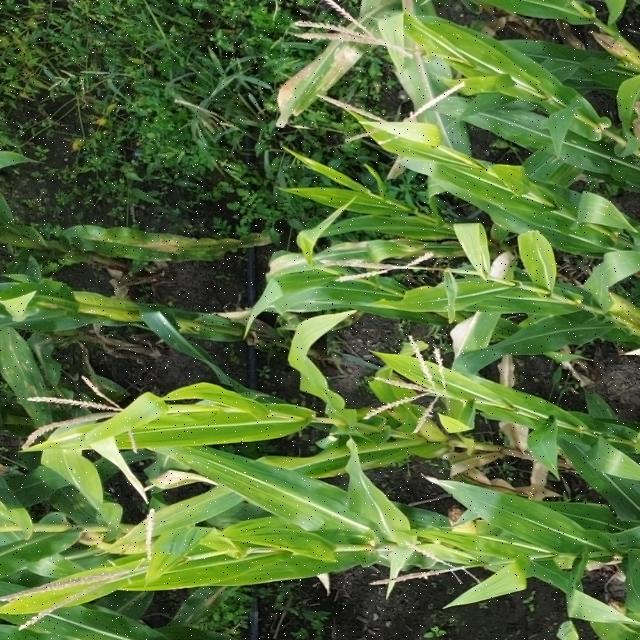gray-leaf-spot: (4, 343, 57, 424)
northern-leaf-blight: (95, 226, 272, 262), (269, 44, 367, 104)
southern-leaf-blight: (508, 119, 583, 184), (536, 211, 630, 258), (447, 30, 526, 80)
